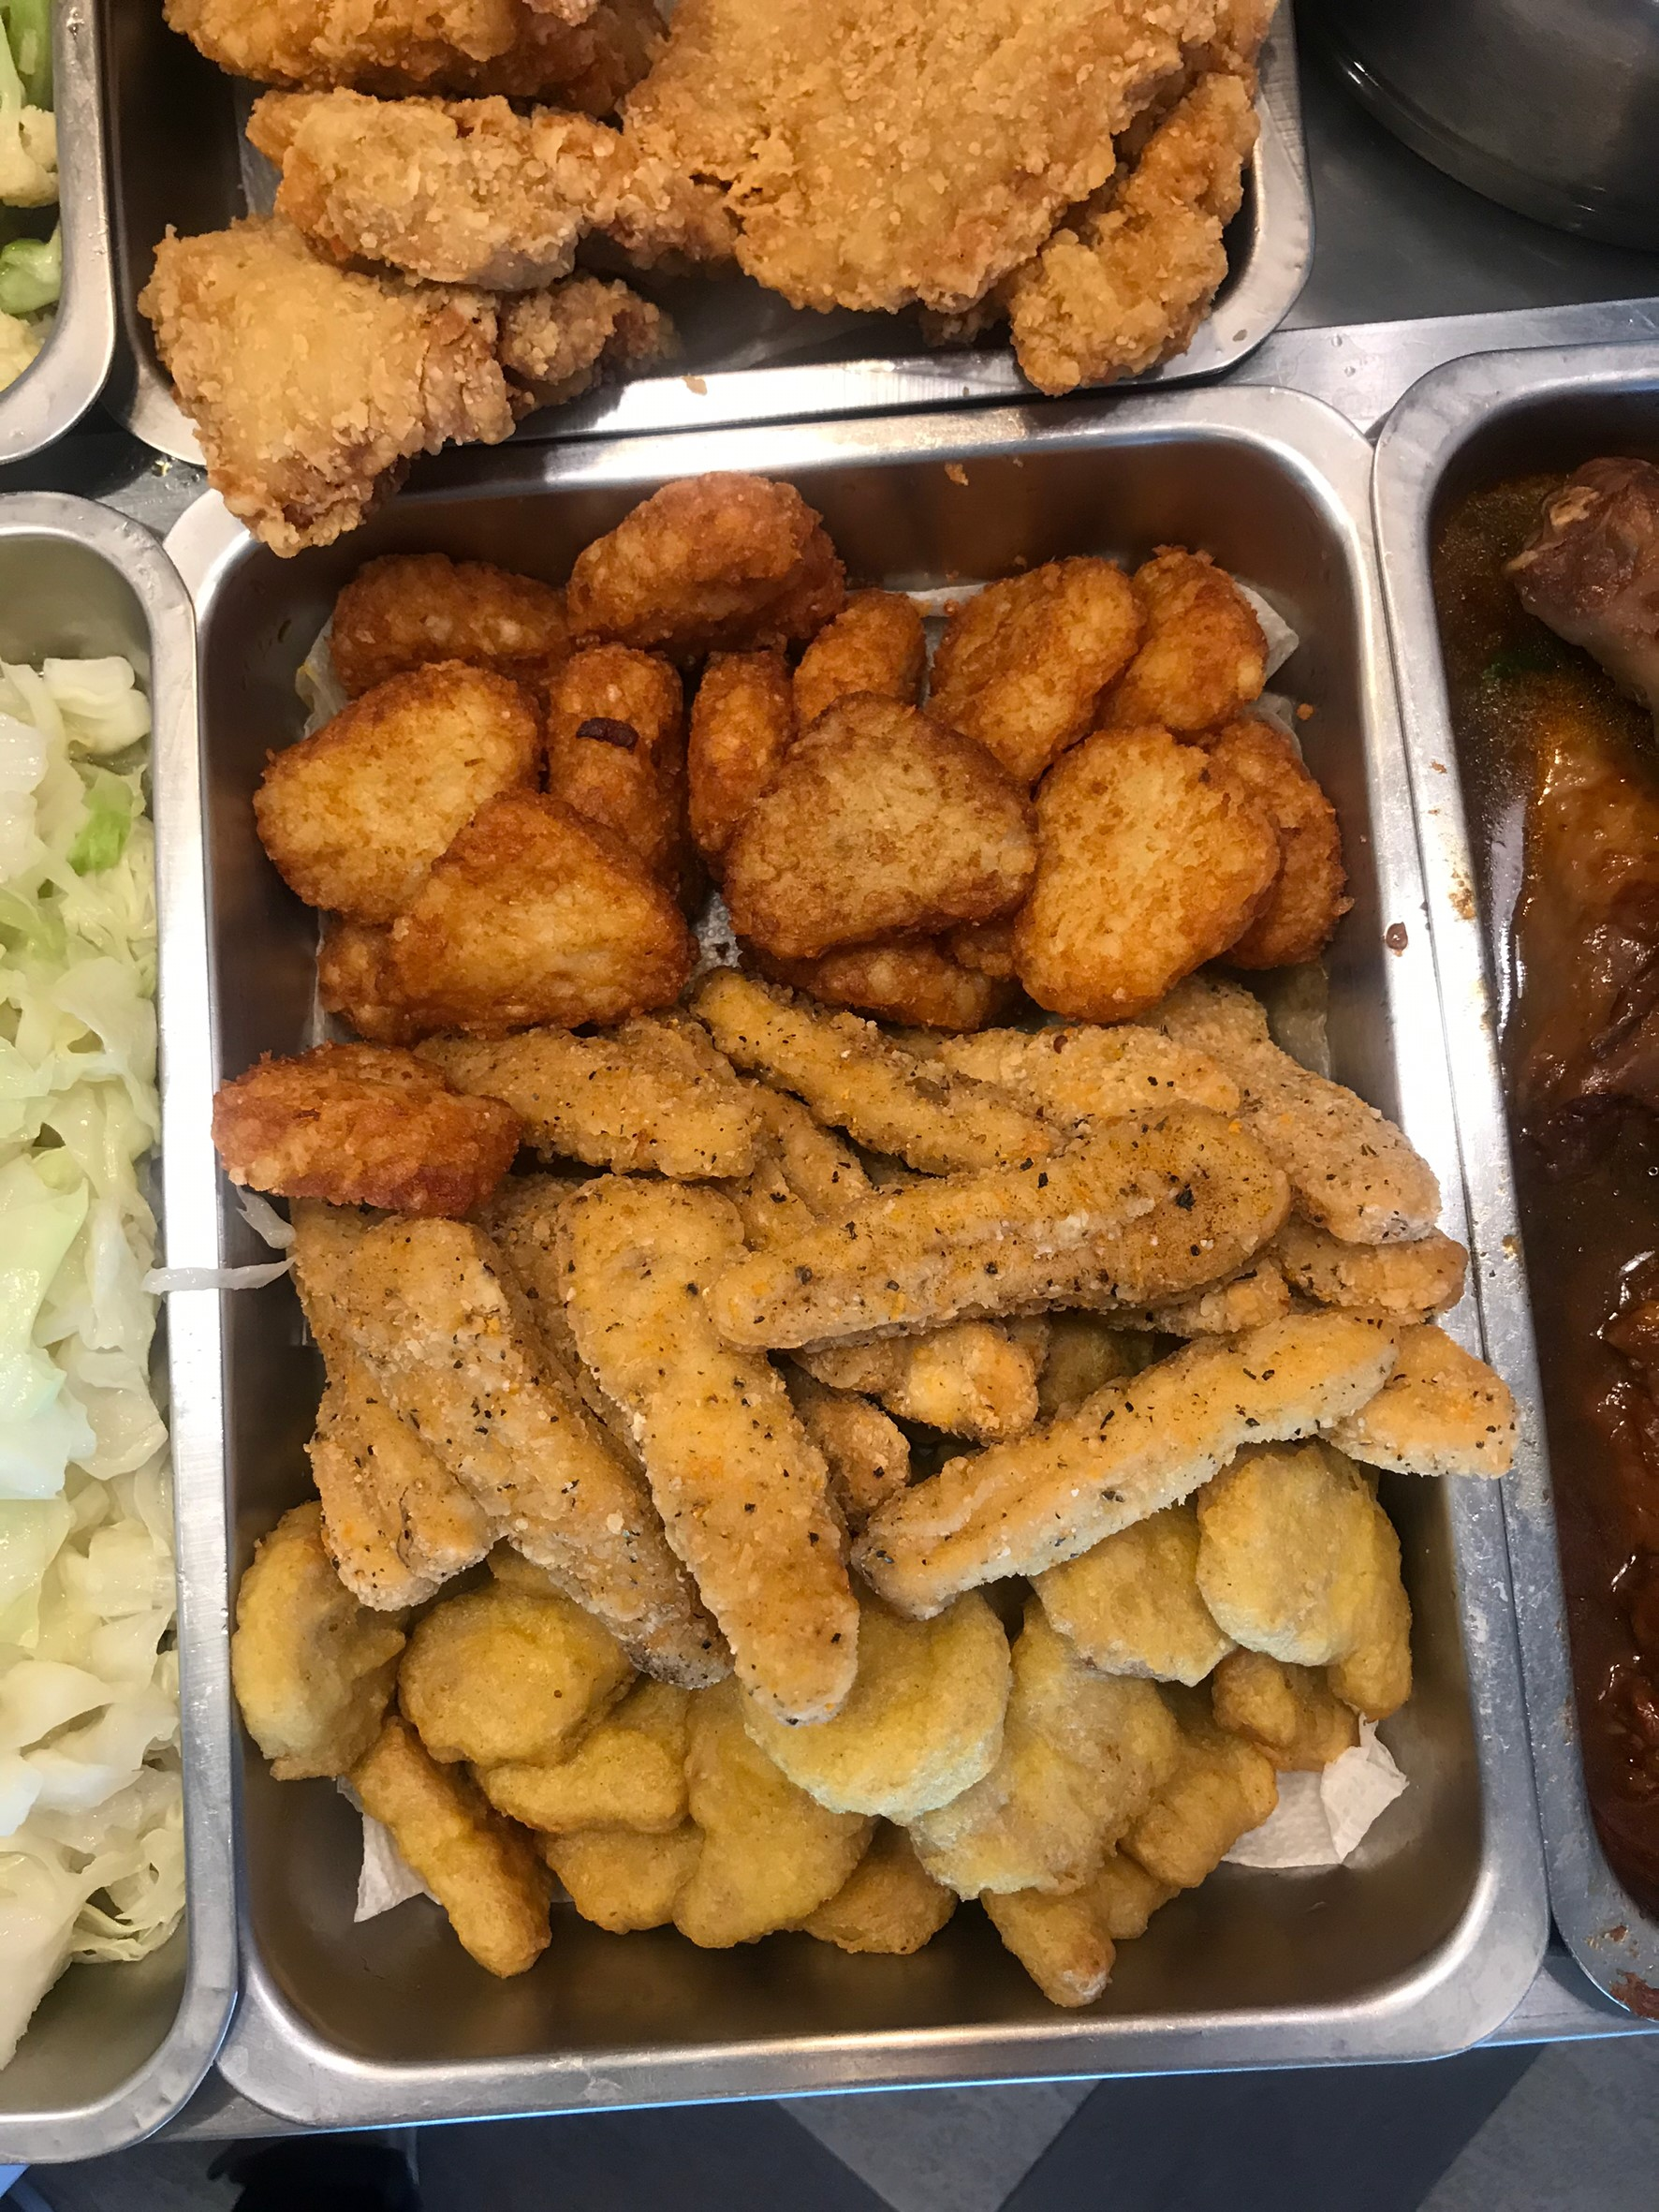chicken_nuggets: (371, 1593, 1232, 1938)
chinese_cabbage: (2, 697, 122, 1886)
fried_chicken: (202, 2, 1178, 314)
triangle_hash_brown: (268, 586, 1312, 974)
